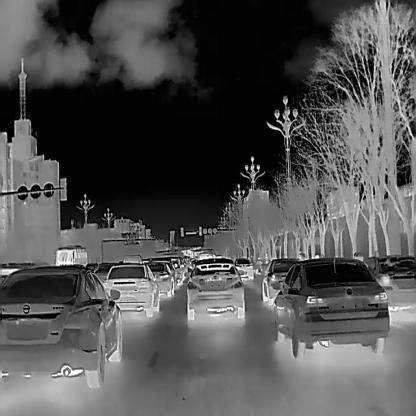bus: (54, 245, 87, 266)
car: (0, 262, 121, 388), (272, 256, 390, 357), (184, 258, 247, 322), (101, 261, 160, 317), (262, 256, 300, 304), (144, 259, 174, 298), (232, 255, 256, 282)
